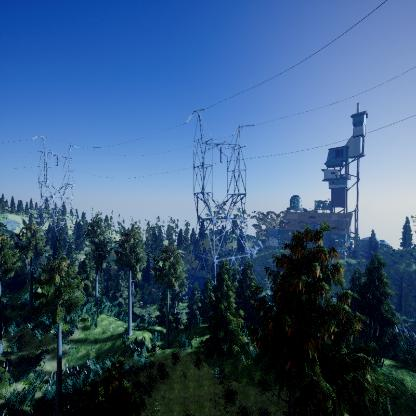tower: (179, 108, 258, 285), (30, 133, 83, 222)
